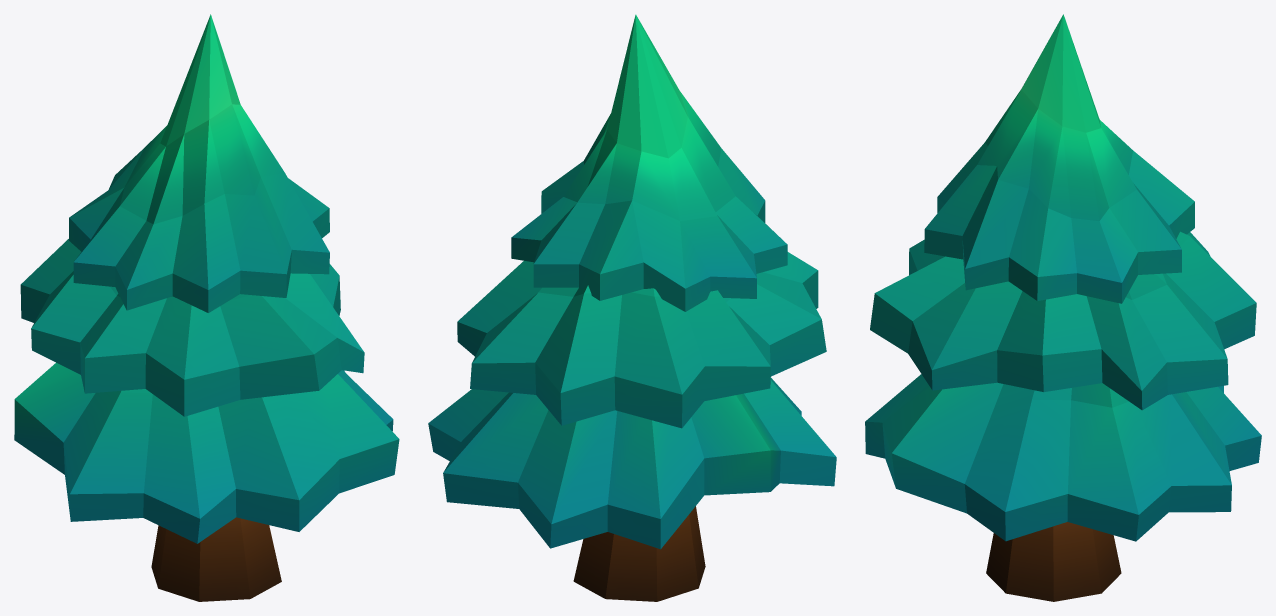
The model's file is Tree_Fern_Small_Summer.fbx.
The picture shows the model from 3 angles, left to right: view 1: azimuth 30°, elevation 25°; view 2: azimuth 150°, elevation 25°; view 3: azimuth 270°, elevation 25°; orthographic projection.
Visible parts, largest first — view 1: Tree_Fern_Small_Summer; view 2: Tree_Fern_Small_Summer; view 3: Tree_Fern_Small_Summer.
Boxes of the visible parts, x1,y1,x2,y2 form: Tree_Fern_Small_Summer: [14, 14, 399, 601]; Tree_Fern_Small_Summer: [428, 14, 836, 601]; Tree_Fern_Small_Summer: [865, 14, 1261, 601].
Bounding box in the file's own units: 162 × 255 × 164.
